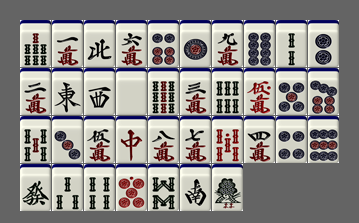0m: (244, 68, 275, 115)
0p: (116, 164, 147, 211)
0s: (212, 116, 243, 163)
1m: (52, 20, 83, 67)
1p: (180, 20, 211, 67)
1s: (212, 164, 243, 211)
1z: (52, 68, 83, 115)
2m: (20, 68, 51, 115)
2p: (308, 20, 339, 67)
2s: (276, 20, 307, 67)
2z: (180, 164, 211, 211)
3m: (180, 68, 211, 115)
3p: (52, 116, 83, 163)
3s: (52, 164, 83, 211)
3z: (84, 68, 115, 115)
4m: (244, 116, 275, 163)
4p: (276, 116, 307, 163)
4s: (84, 164, 115, 211)
4z: (84, 20, 115, 67)
5m: (84, 116, 115, 163)
5p: (276, 68, 307, 115)
5s: (20, 116, 51, 163)
5z: (116, 68, 147, 115)
6m: (116, 20, 147, 67)
6p: (148, 20, 179, 67)
6s: (212, 68, 243, 115)
6z: (20, 164, 51, 211)
7m: (180, 116, 211, 163)
7p: (308, 68, 339, 115)
7s: (20, 20, 51, 67)
7z: (116, 116, 147, 163)
8m: (148, 116, 179, 163)
8p: (244, 20, 275, 67)
8s: (148, 164, 179, 211)
9m: (212, 20, 243, 67)
9p: (308, 116, 339, 163)
9s: (148, 68, 179, 115)
